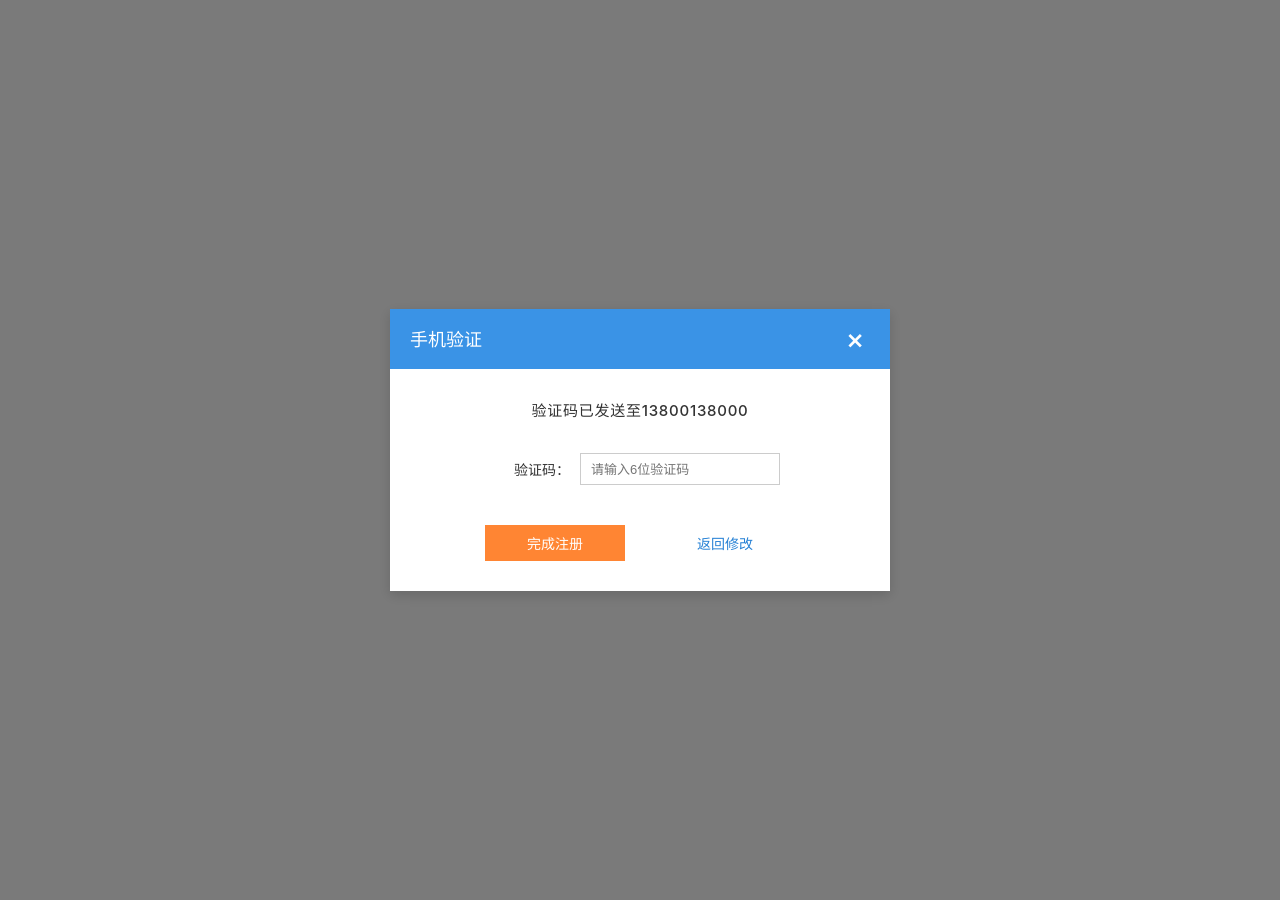
Test: RegistrationVerificationModal Component Tests › 验证码输入验证 › 应该只允许输入数字
Note: 尝试输入非数字字符
In the field with placeholder "请输入6位验证码": (680, 469) [580, 453, 780, 485], type "abc123def456"
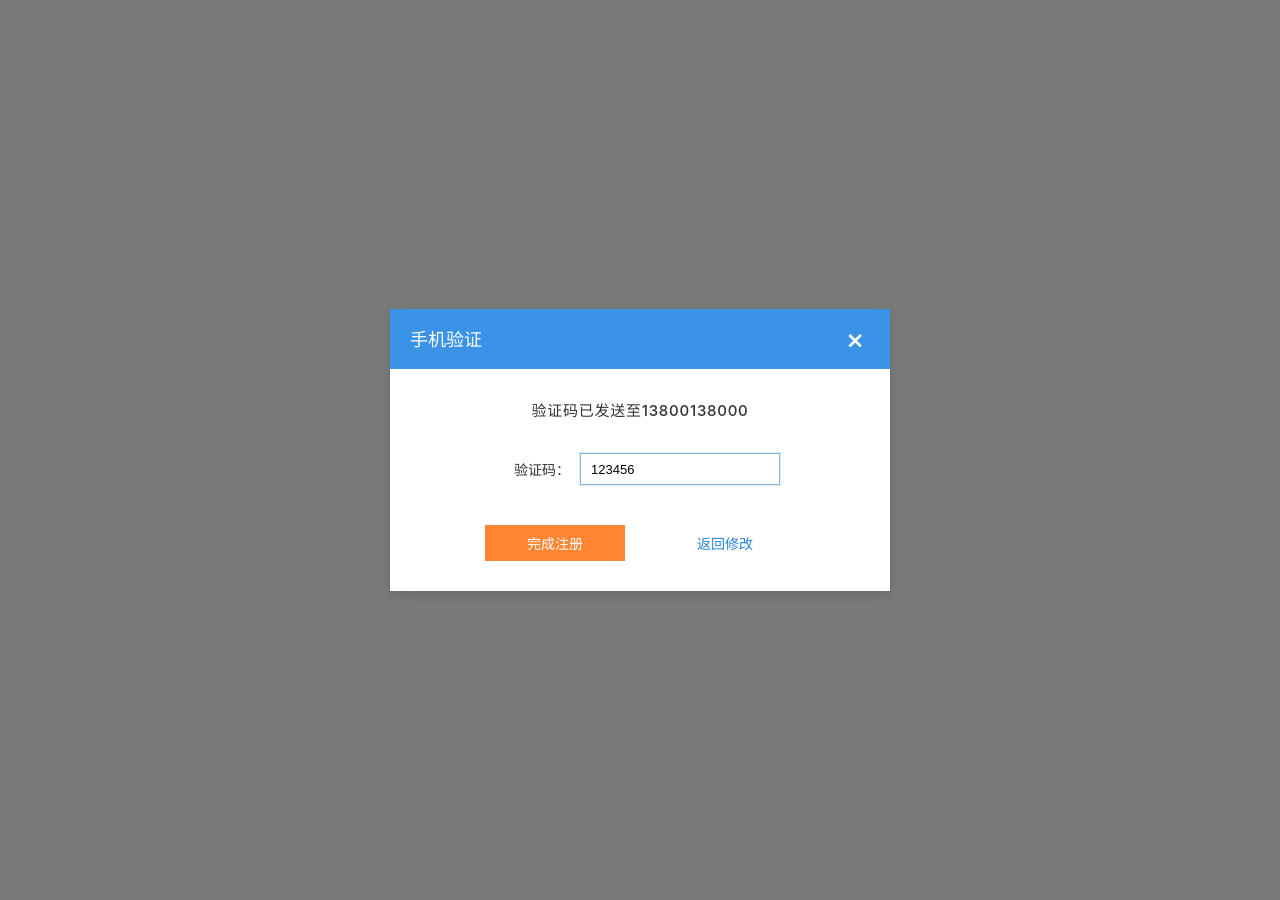
Now the field with placeholder "请输入6位验证码" holds "123456", box [580, 453, 780, 485]
